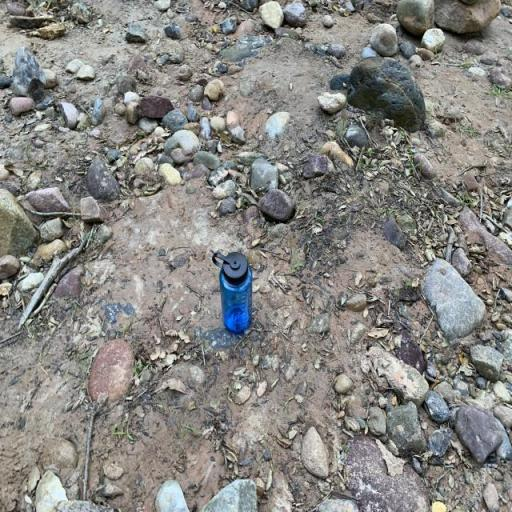bottle: (212, 252, 252, 336)
